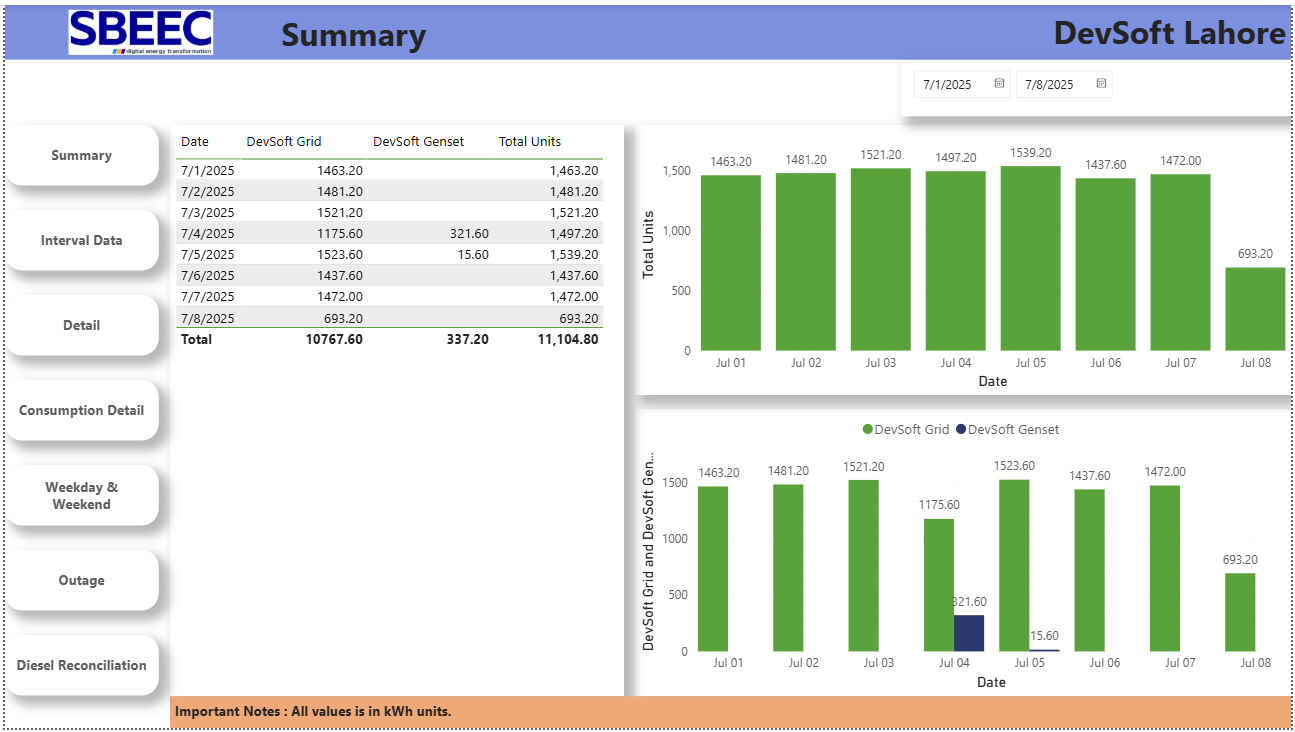

This screenshot's page, from the dashboard's own definition file:
{"tool":"powerbi","page":{"name":"DevSoft Lahore : Summary","canvas":[1280,720],"ordinal":0},"visuals":[{"type":"textbox","box":[0,0,1280,54.3],"z":0},{"type":"image","box":[0,0,269.9,54.3],"z":1000},{"type":"textbox","box":[269.9,1.4,346.4,52.9],"z":2000},{"type":"slicer","fields":{"Values":["Calendar.Date"]},"box":[891.8,54.3,388.2,55.7],"z":3000},{"type":"tableEx","fields":{"Values":["Calendar.Date","Table.Jeff Heights Grid","Key Measure.Jeff Heights Genset","Key Measure.Total Units"]},"box":[164.2,119.7,452.2,567.7],"z":4000},{"type":"columnChart","fields":{"Category":["Calendar.Date","Transworld*_fact.Time"],"Y":["Key Measure.Total Units"]},"box":[627.5,119.7,652.5,268.5],"z":5000},{"type":"clusteredColumnChart","fields":{"Category":["Calendar.Date"],"Y":["Key Measure.DevSoft Grid","Key Measure.DevSoft Genset"]},"box":[627.5,402.1,652.5,285.2],"z":6000},{"type":"textbox","box":[164.2,687.3,1115.8,33.4],"z":7000},{"type":"actionButton","box":[0,119.7,153,59.8],"z":8000},{"type":"actionButton","box":[0,204.3,153,59.8],"z":9000},{"type":"actionButton","box":[0,288.9,153,59.8],"z":10000},{"type":"actionButton","box":[0,373.6,153,59.8],"z":11000},{"type":"actionButton","box":[0,458.2,153,59.8],"z":12000},{"type":"actionButton","box":[0,542.8,153,59.8],"z":13000},{"type":"actionButton","box":[0,627.5,153,59.8],"z":14000}]}

Visuals, with their boxes in screenshot pixels (x1, y1, x2, y2), scaled from the page's 1280x720 canvas onto the 1295x732 screenshot:
textbox: x1=0, y1=0, x2=1294, y2=55
image: x1=0, y1=0, x2=273, y2=55
textbox: x1=273, y1=1, x2=624, y2=55
slicer - Calendar.Date: x1=902, y1=55, x2=1294, y2=112
tableEx - Calendar.Date x Table.Jeff Heights Grid: x1=166, y1=122, x2=624, y2=699
columnChart - Calendar.Date x Transworld*_fact.Time: x1=635, y1=122, x2=1294, y2=395
clusteredColumnChart - Calendar.Date x Key Measure.DevSoft Grid: x1=635, y1=409, x2=1294, y2=699
textbox: x1=166, y1=699, x2=1294, y2=731
actionButton: x1=0, y1=122, x2=155, y2=182
actionButton: x1=0, y1=208, x2=155, y2=269
actionButton: x1=0, y1=294, x2=155, y2=355
actionButton: x1=0, y1=380, x2=155, y2=441
actionButton: x1=0, y1=466, x2=155, y2=527
actionButton: x1=0, y1=552, x2=155, y2=613
actionButton: x1=0, y1=638, x2=155, y2=699
